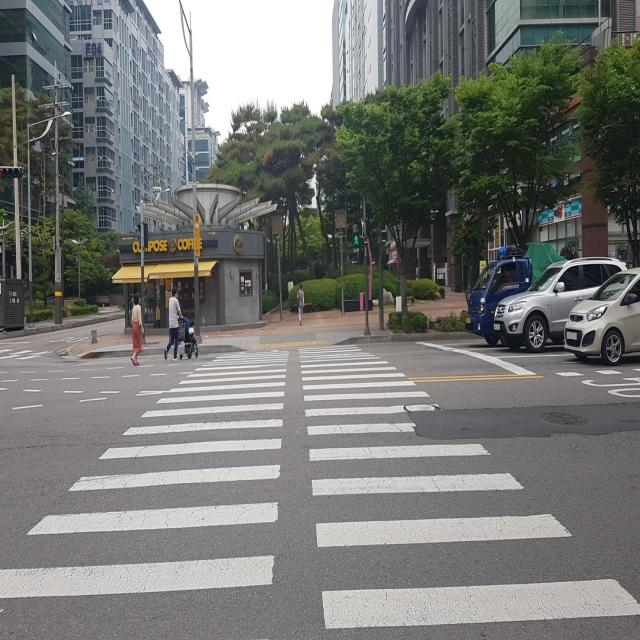초록불: (351, 218, 360, 252)
횡단보도: (0, 334, 640, 640)
